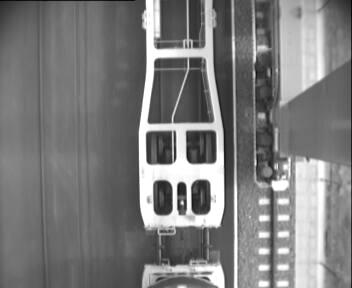Copy of wagon_scan: (149, 178, 214, 219)
